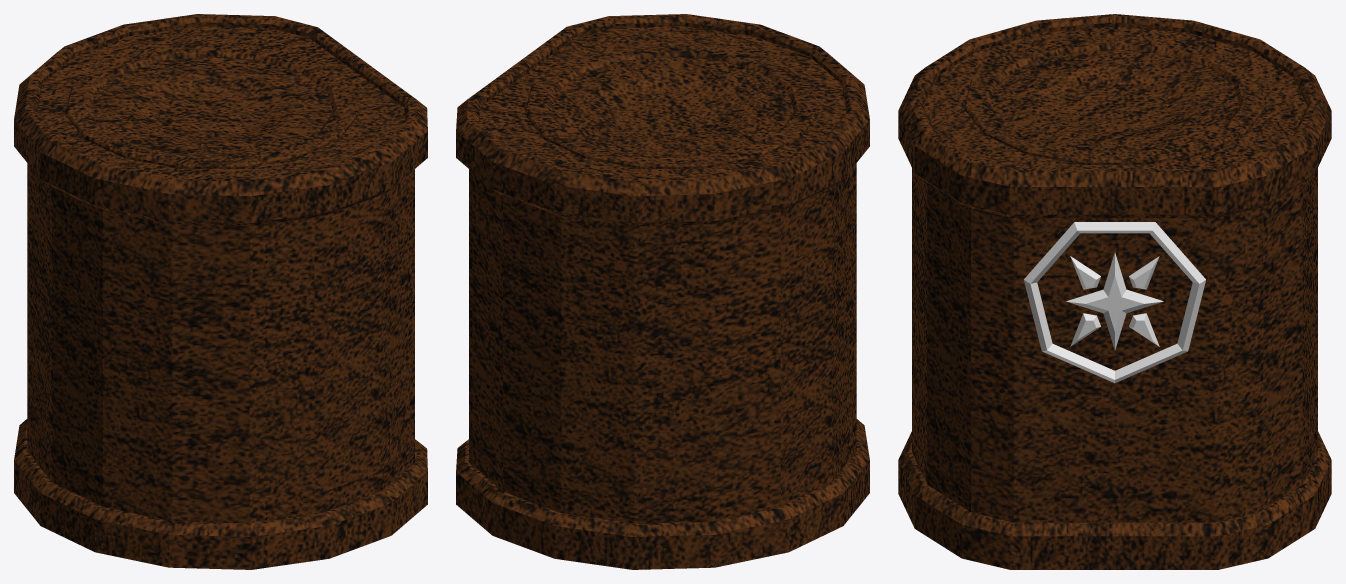
File: CrystalPodium.fbx
3 views of the same model, side by side, from view 1: azimuth 30°, elevation 25°; view 2: azimuth 150°, elevation 25°; view 3: azimuth 270°, elevation 25° (orthographic). The views are drawn at different scales.
Visible parts, largest first — view 1: Crystal Podium; view 2: Crystal Podium; view 3: Crystal Podium, Crystal Ring, Crystal crest.
Boxes of the visible parts, x1,y1,x2,y2 form: Crystal Podium: [14, 14, 427, 569]; Crystal Podium: [456, 14, 869, 569]; Crystal Podium: [898, 14, 1331, 569]; Crystal Ring: [1024, 222, 1205, 383]; Crystal crest: [1066, 252, 1163, 350].
Size of the model in its own units: 183 by 200 by 200.
Materials: 1 (1 with a texture image).
